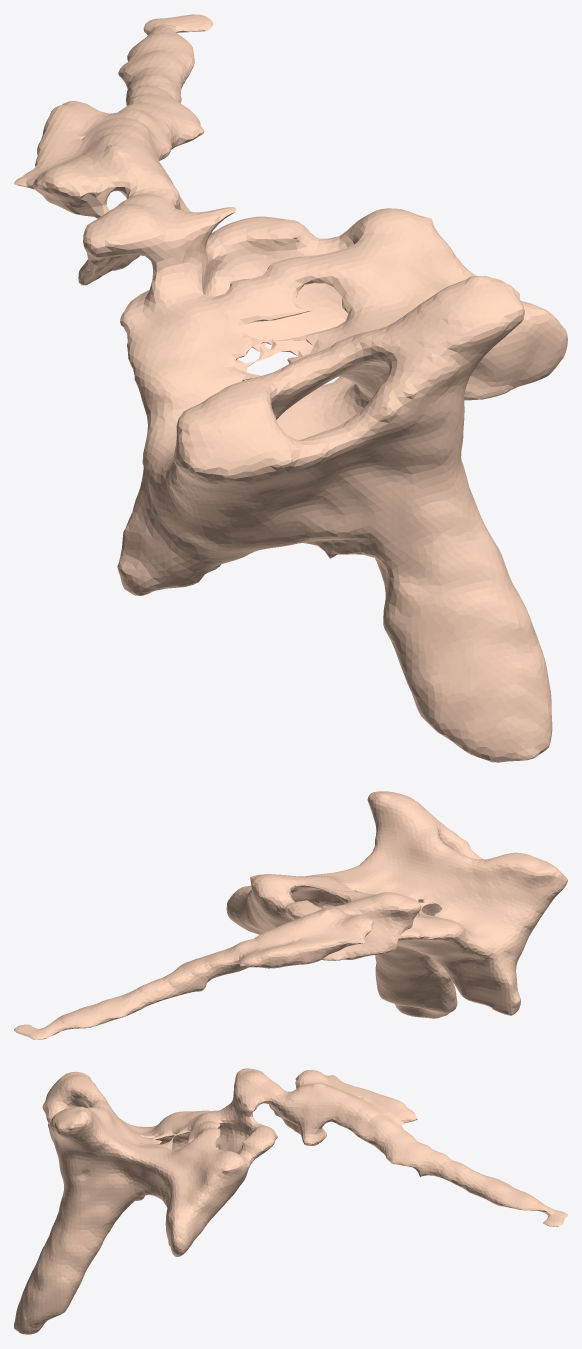
The model's file is Darch6.glb.
The picture shows the model from 3 angles, top to bottom: view 1: azimuth 30°, elevation 25°; view 2: azimuth 150°, elevation 25°; view 3: azimuth 270°, elevation 25°; orthographic projection. The views are drawn at different scales.
Parts seen in each view (by area): view 1: Darch6; view 2: Darch6; view 3: Darch6.
Boxes of the visible parts, x1,y1,x2,y2 form: Darch6: (14, 14, 567, 762); Darch6: (14, 791, 567, 1039); Darch6: (14, 1068, 567, 1334).
Size of the model in its own units: 0.00515 by 0.0042 by 0.00953.
